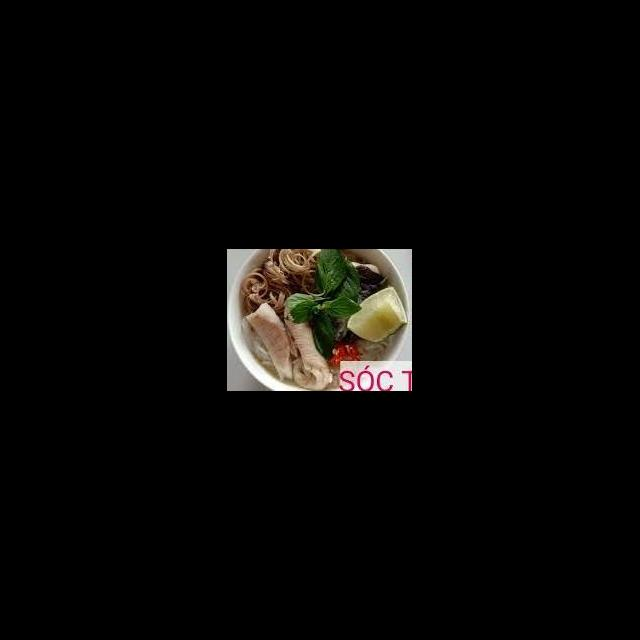ca: (280, 300, 336, 391), (242, 300, 298, 384)
